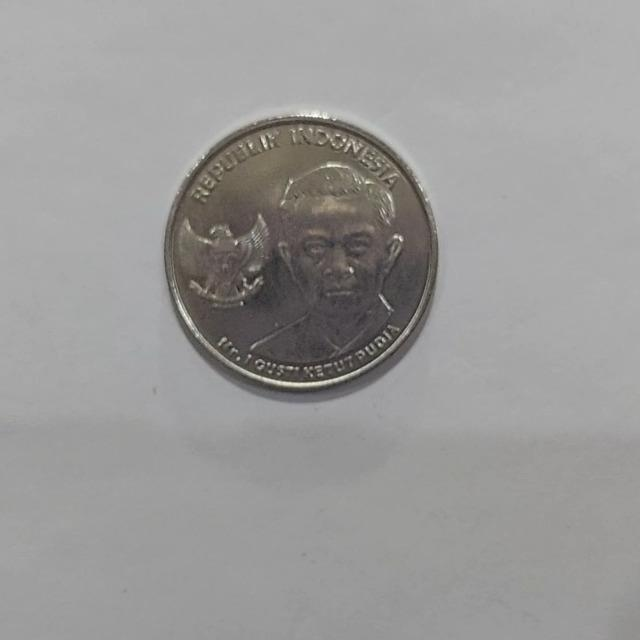Rp100: (162, 112, 438, 393)
